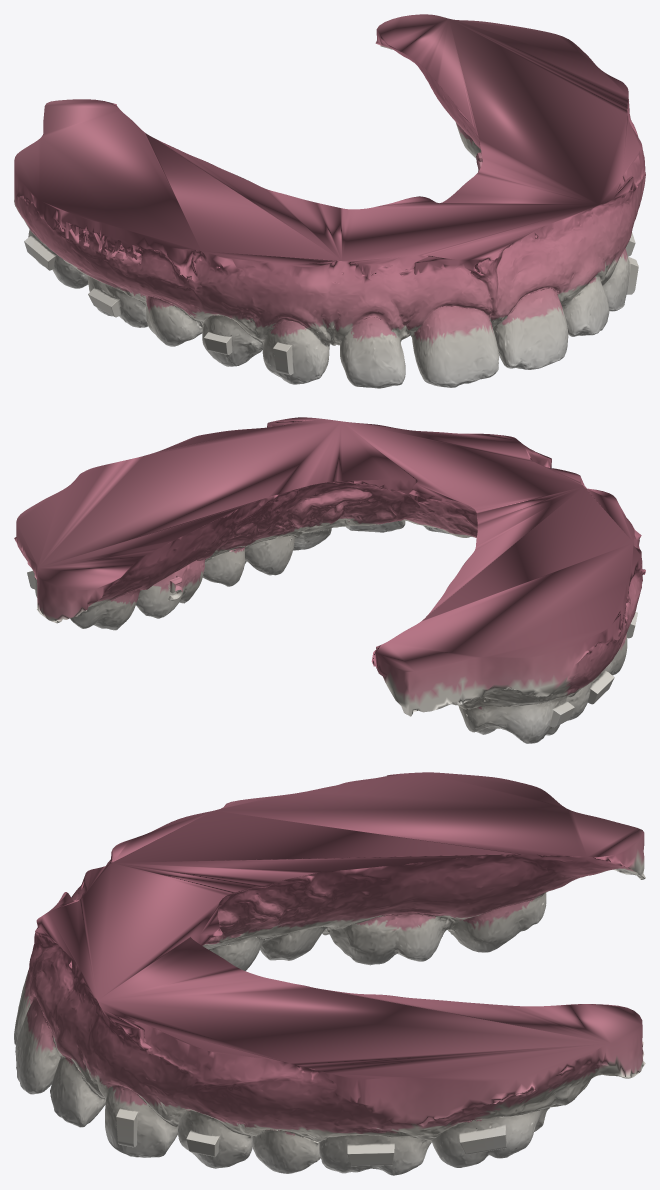
Rendered from Niya Priority Upper jaw - 05 - Model.glb.
3 renders of one model, top to bottom at view 1: azimuth 30°, elevation 25°; view 2: azimuth 150°, elevation 25°; view 3: azimuth 270°, elevation 25°, orthographic. The views are drawn at different scales.
Parts seen in each view (by area): view 1: Niya Priority Upper jaw - 05 - Model; view 2: Niya Priority Upper jaw - 05 - Model; view 3: Niya Priority Upper jaw - 05 - Model.
Boxes of the visible parts, bbox=[...] form: Niya Priority Upper jaw - 05 - Model: bbox=[14, 14, 645, 388]; Niya Priority Upper jaw - 05 - Model: bbox=[14, 417, 645, 743]; Niya Priority Upper jaw - 05 - Model: bbox=[14, 772, 645, 1175].
Bounding box in the file's own units: 66.36 × 13.7 × 57.32.
